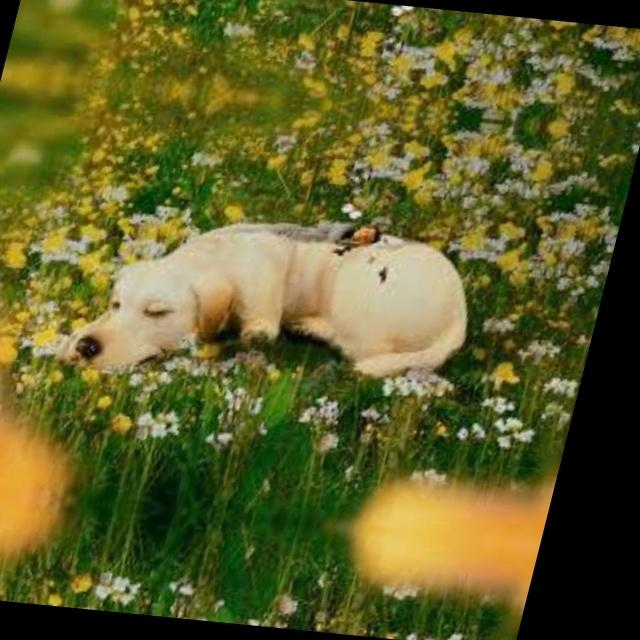dog: (48, 236, 236, 394)
